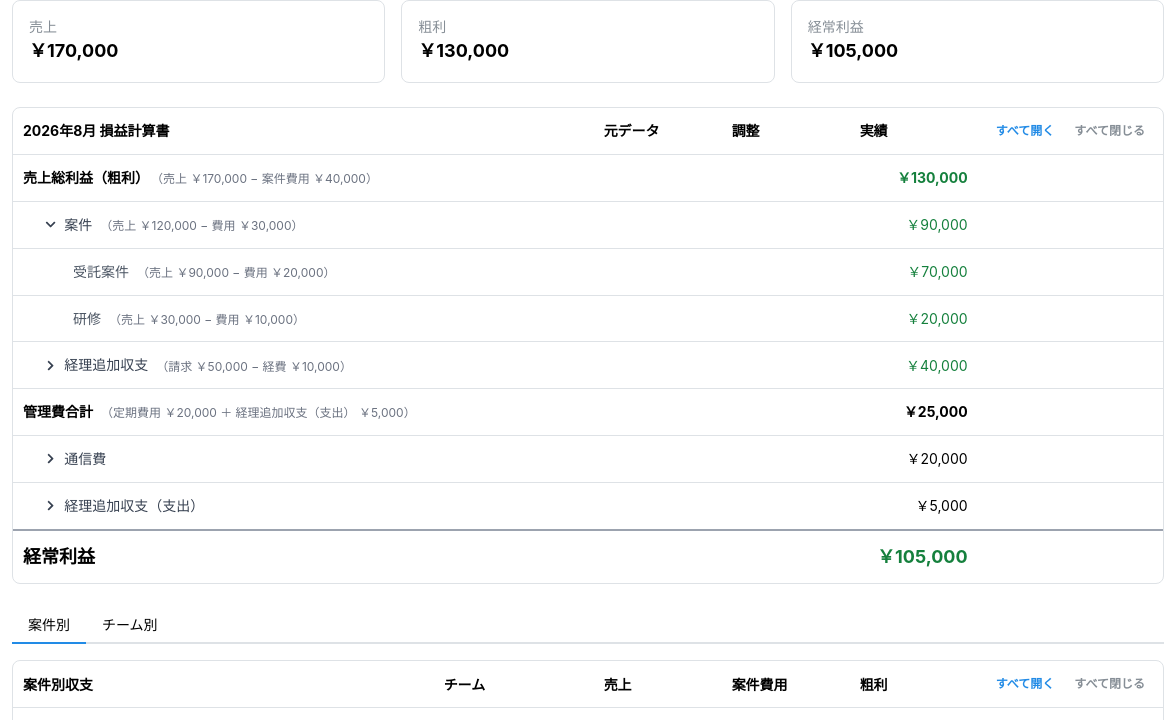
Test: ProfitLossStatement の表示順と収支の内訳タブ（Issue #152 / #164） › 分類別タブは無く、チーム別に切り替えられる
The width and height of the screenshot is (1164, 720).
Click the tab "チーム別" at (130, 626), box [86,608,174,644]
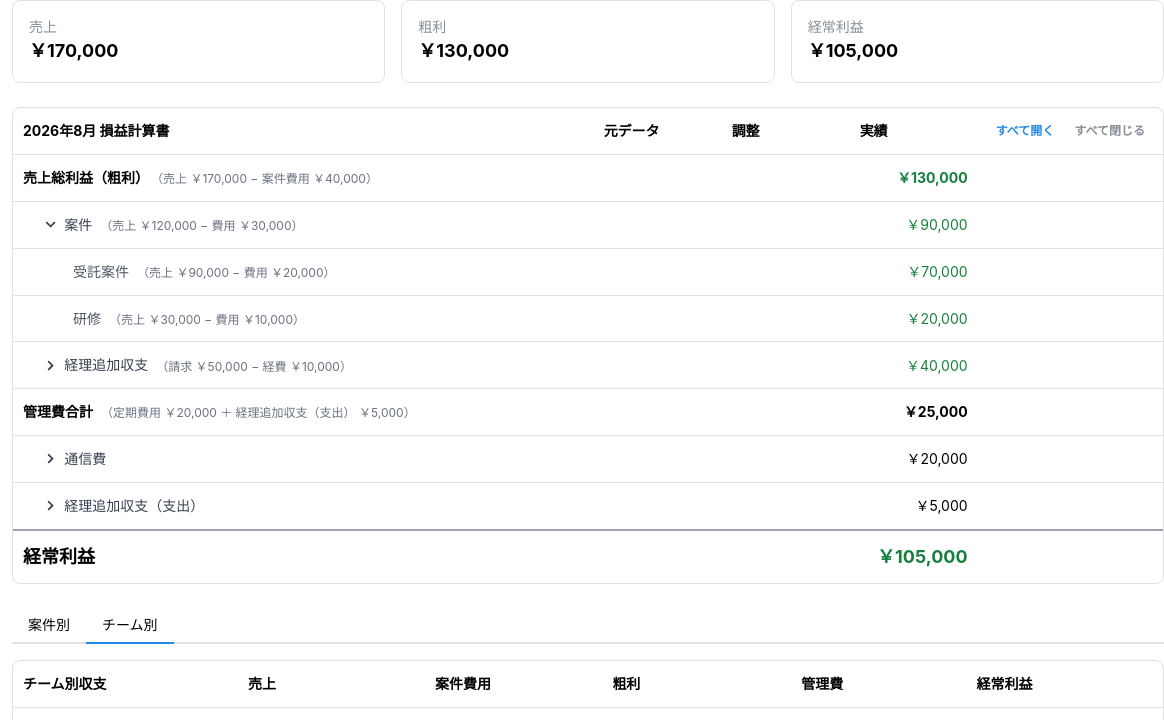
Check: the column heading "チーム別収支" is shown, box [13,661,238,708]
